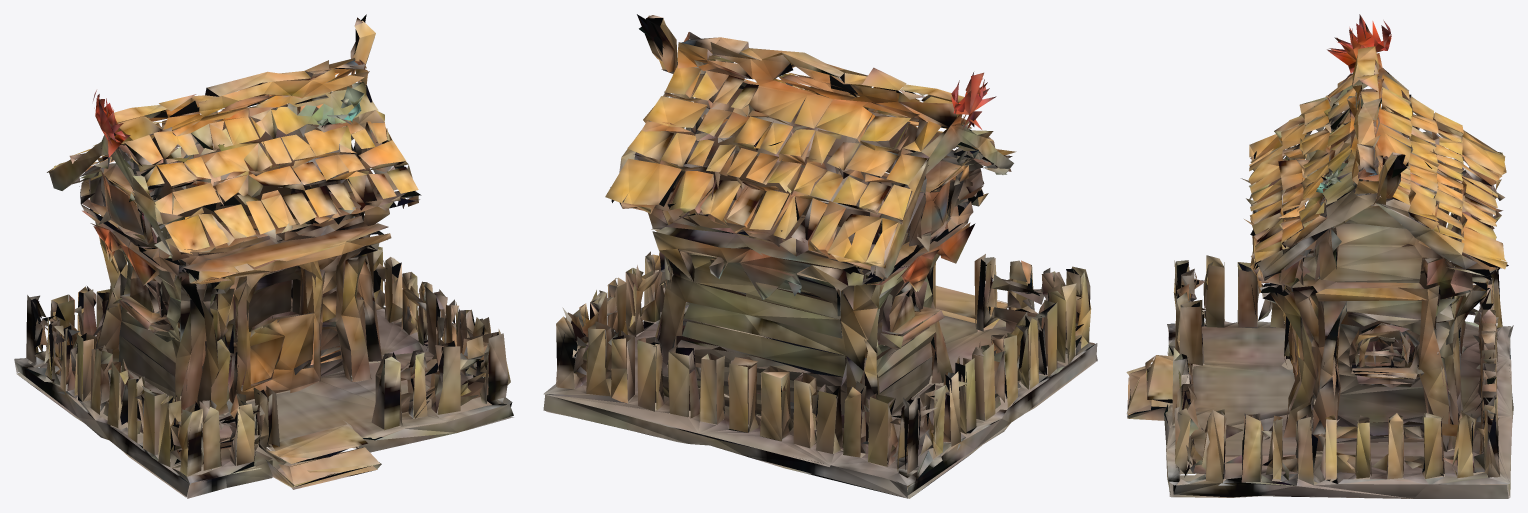
Rendered from meshy_chicken_coop_fenced_lod0.glb.
3 views of the same model, side by side, from view 1: azimuth 30°, elevation 25°; view 2: azimuth 150°, elevation 25°; view 3: azimuth 270°, elevation 25° (orthographic). The views are drawn at different scales.
Visible parts, largest first — view 1: meshy_chicken_coop_fenced; view 2: meshy_chicken_coop_fenced; view 3: meshy_chicken_coop_fenced.
Boxes of the visible parts, x1=… form: meshy_chicken_coop_fenced: x1=14, y1=14, x2=513, y2=498; meshy_chicken_coop_fenced: x1=543, y1=14, x2=1097, y2=498; meshy_chicken_coop_fenced: x1=1126, y1=14, x2=1513, y2=498.
Bounding box in the file's own units: 2.1 × 2 × 2.13.
Materials: 1 (1 with a texture image).
